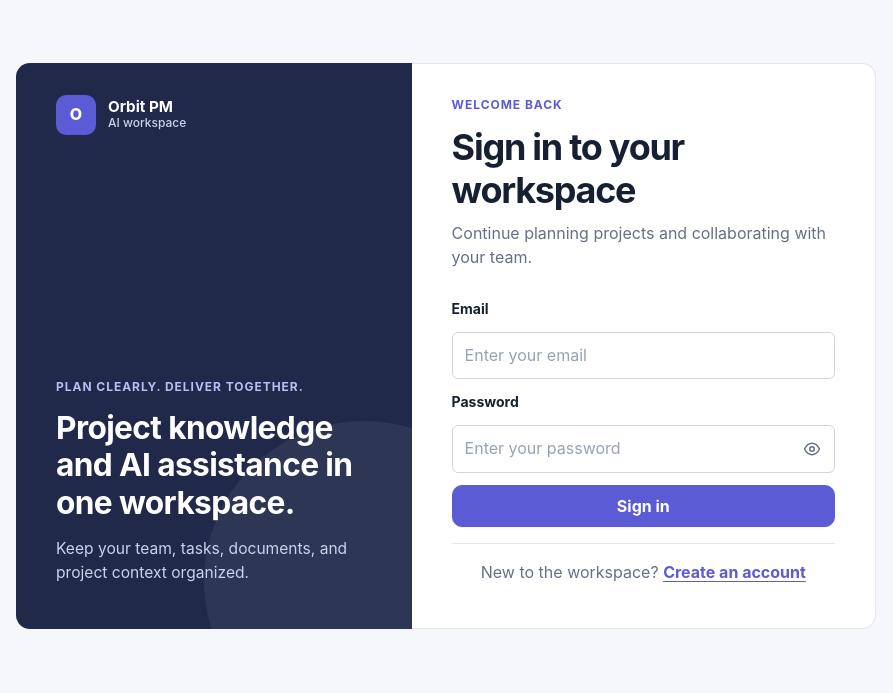
Test case: authentication critical flows › shows the backend message when login fails
Type "owner@test.local" into the field labelled "Email" at (643, 356), box [452,332,835,379]
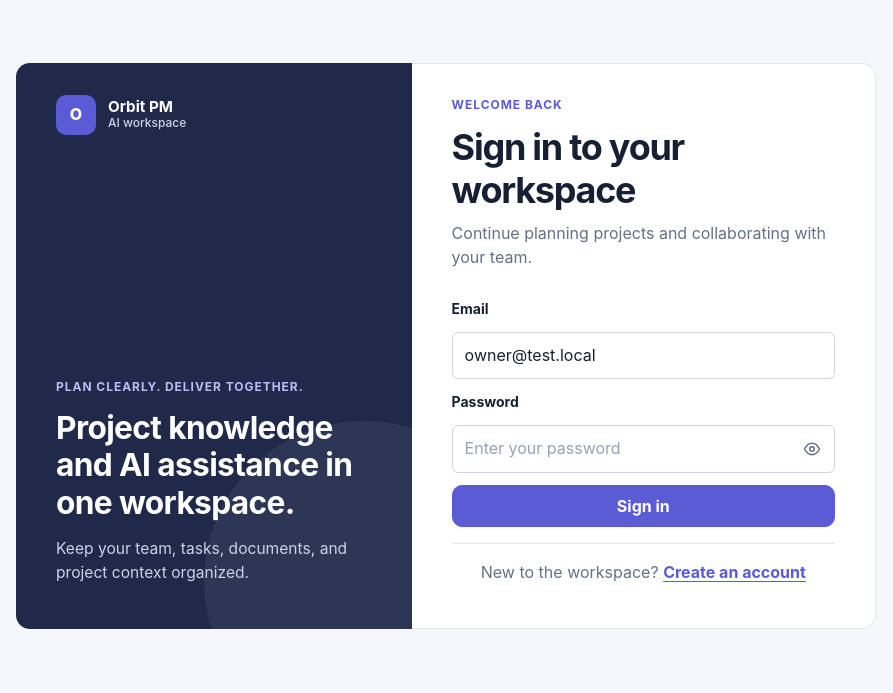
Type "wrong-password" into the password field labelled "Password" at (643, 449), box [452,425,835,473]
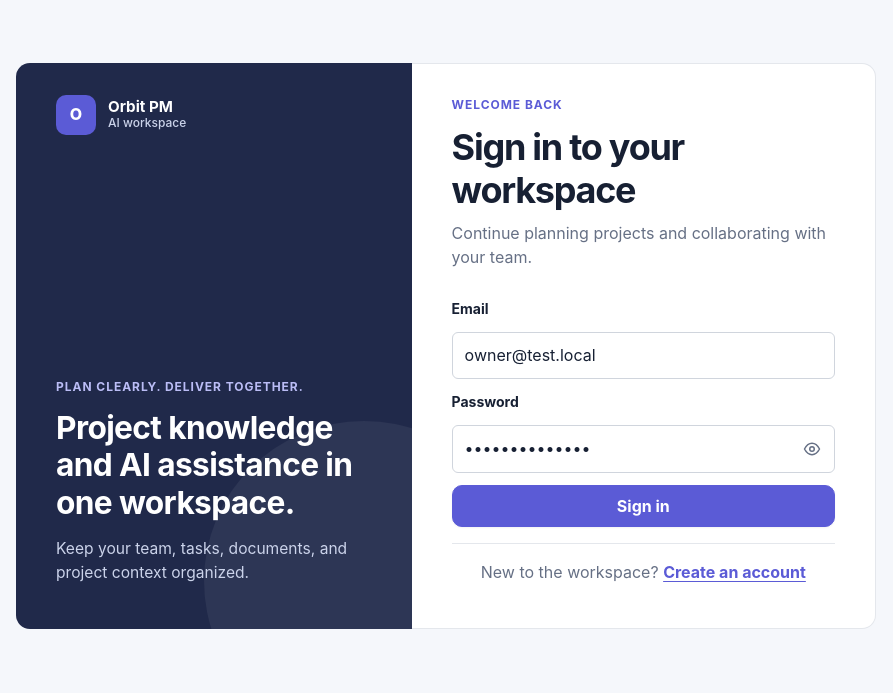
Click the button "Sign in" at (643, 506), box [452,485,835,527]
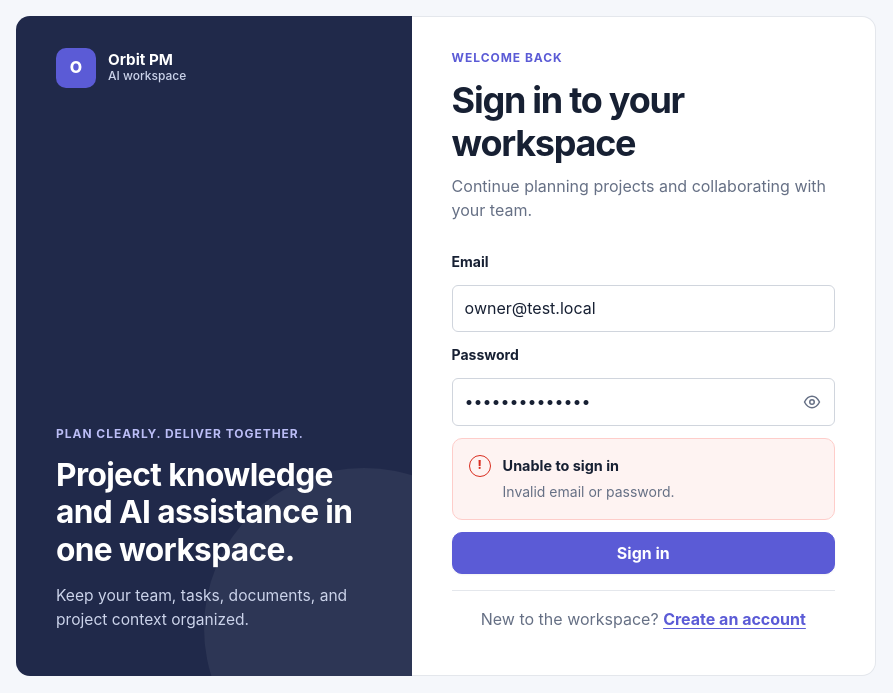
expect the text "Invalid email or password." is shown: met, box [503,481,675,503]
